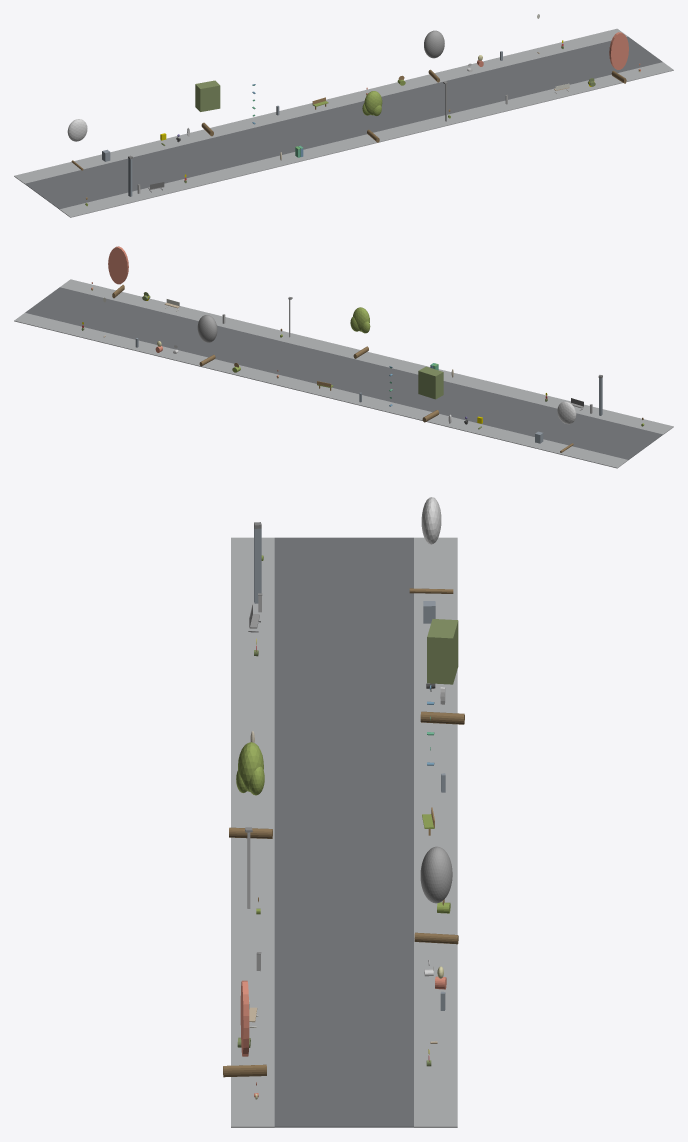
3 renders of one model, top to bottom at view 1: azimuth 30°, elevation 25°; view 2: azimuth 150°, elevation 25°; view 3: azimuth 270°, elevation 25°, orthographic. The views are drawn at different scales.
Parts seen in each view (by area): view 1: road_slab, sidewalk_left, sidewalk_right, inst_0013, inst_0016, inst_0015, inst_0014, inst_0012; view 2: road_slab, sidewalk_right, sidewalk_left, inst_0013, inst_0016, inst_0015, inst_0014, inst_0012; view 3: road_slab, sidewalk_left, sidewalk_right, inst_0013, inst_0015, inst_0014, inst_0016, inst_0012.
Part boxes in pixels (x1,y1,x2,y2): road_slab: [25, 36, 662, 209]; sidewalk_left: [59, 62, 673, 217]; sidewalk_right: [14, 28, 627, 183]; inst_0013: [195, 80, 220, 136]; inst_0016: [609, 32, 628, 83]; inst_0015: [424, 30, 444, 82]; inst_0014: [362, 91, 382, 142]; inst_0012: [67, 119, 87, 170]; road_slab: [25, 287, 662, 459]; sidewalk_right: [14, 313, 628, 468]; sidewalk_left: [60, 279, 673, 434]; inst_0013: [418, 366, 443, 422]; inst_0016: [108, 246, 128, 298]; inst_0015: [197, 315, 217, 366]; inst_0014: [350, 307, 370, 358]; inst_0012: [557, 401, 576, 452]; road_slab: [274, 537, 413, 1127]; sidewalk_left: [231, 537, 274, 1127]; sidewalk_right: [414, 537, 457, 1127]; inst_0013: [420, 619, 464, 724]; inst_0015: [414, 846, 458, 944]; inst_0014: [229, 742, 272, 838]; inst_0016: [223, 980, 266, 1077]; inst_0012: [409, 497, 453, 593].
Bounding box in the file's own units: 80 × 6.08 × 13.88.
